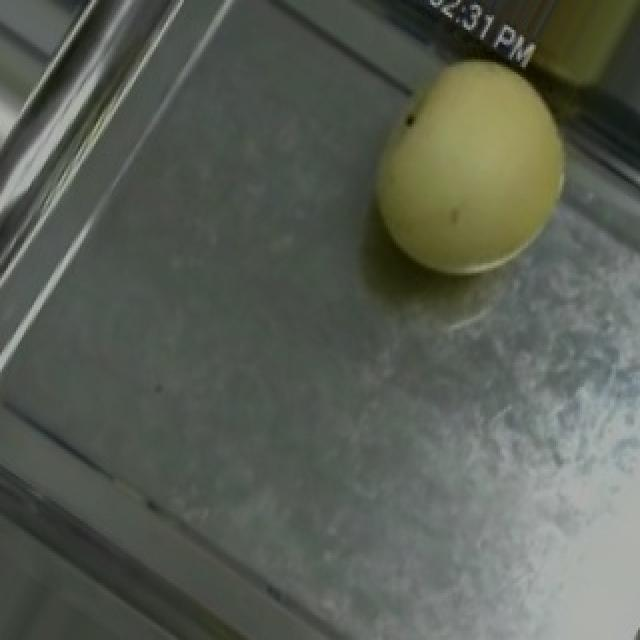Fruit: (328, 15, 614, 317)
